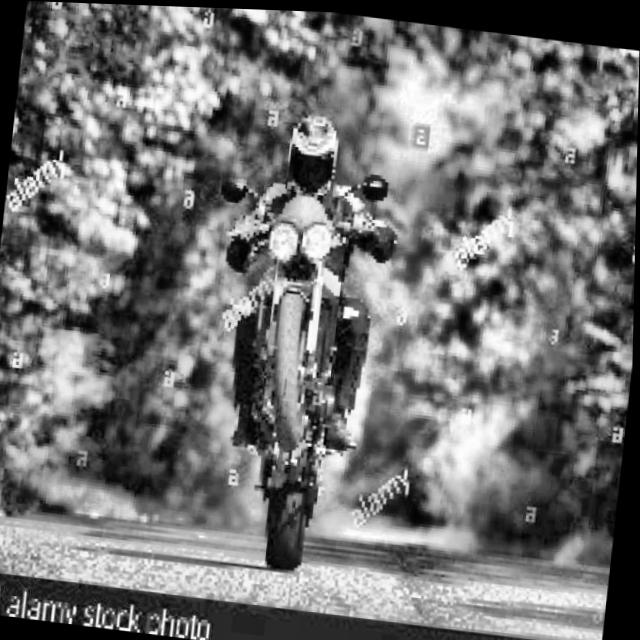motorcycle: (162, 147, 426, 585)
